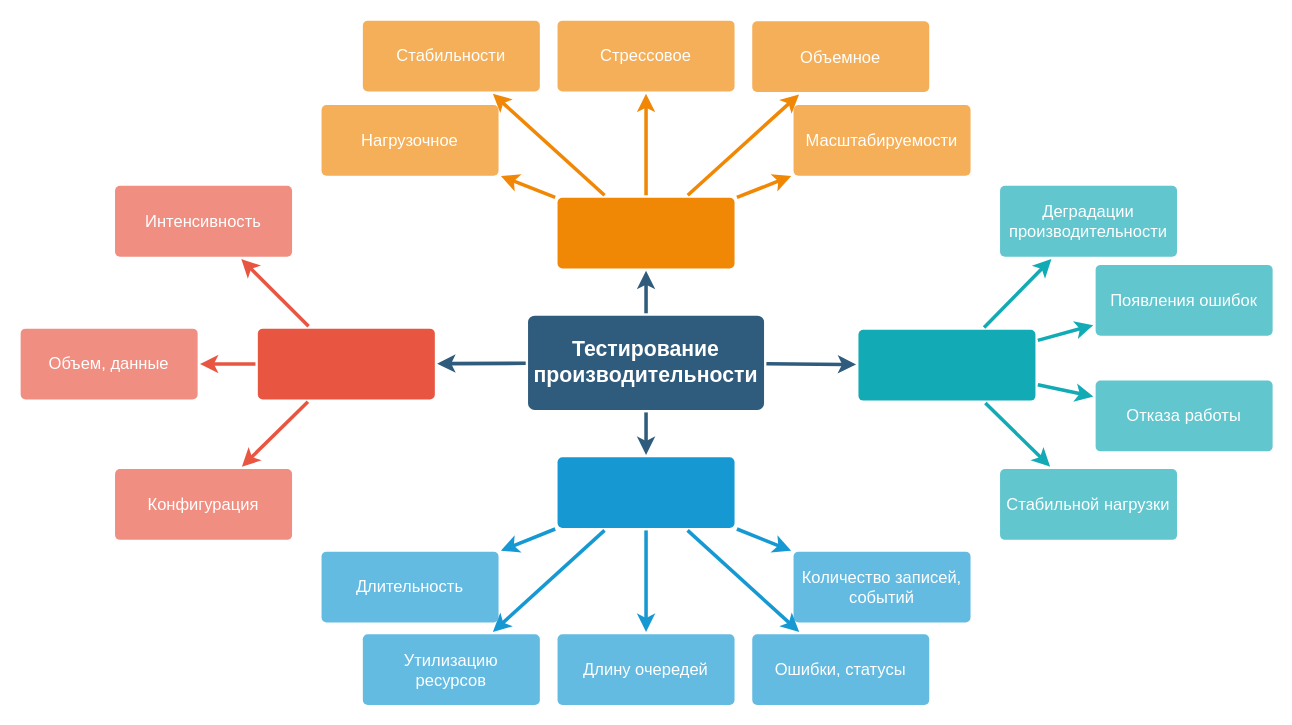
The diagram is 1292 pixels wide and 725 high, and some of its shapes have lost their labels. The shapes that lost their labels are listed below. From the top down, each one's box as (x1, y1, x2, y2) in pixels, then its label:
(557, 197, 734, 268): Виды тестирования производительности
(257, 328, 434, 399): Профиль нагрузки
(858, 329, 1035, 400): Точки
(557, 457, 734, 527): Измеряем
